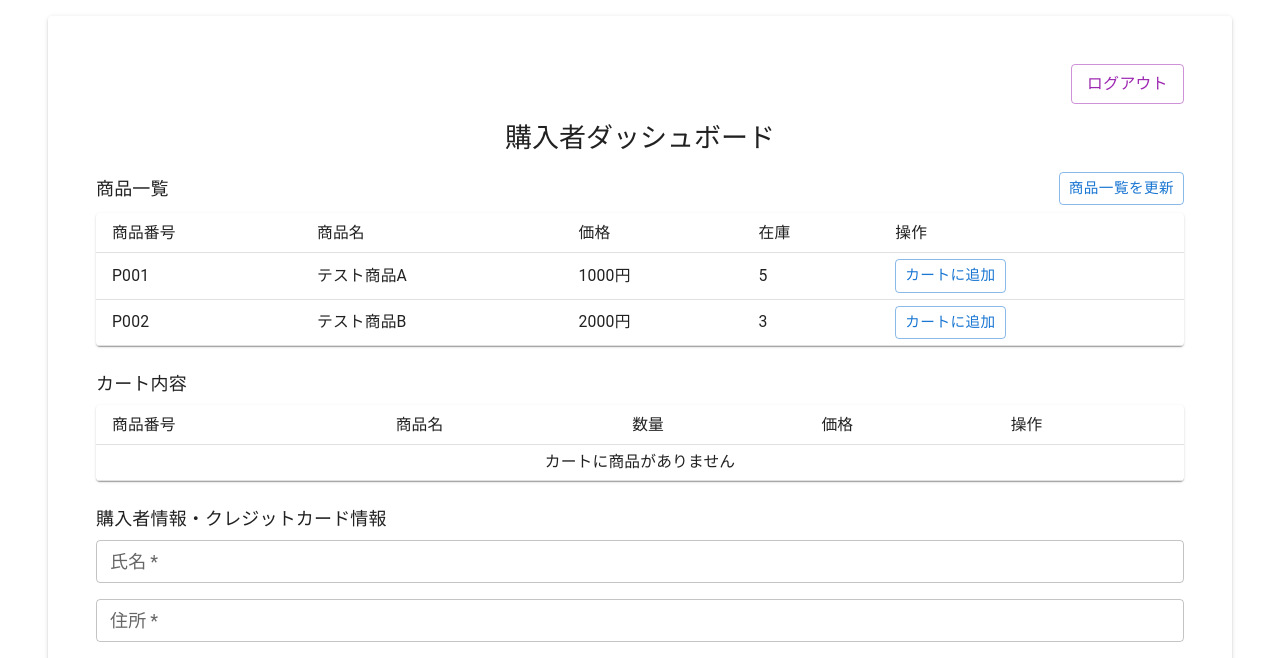
Test case: PurchaserDashboard › 必須項目未入力で注文確定するとエラー表示
Click the button "カートに追加" in the row of "P001" at (950, 276), box [895, 259, 1006, 293]
(page scrolled)
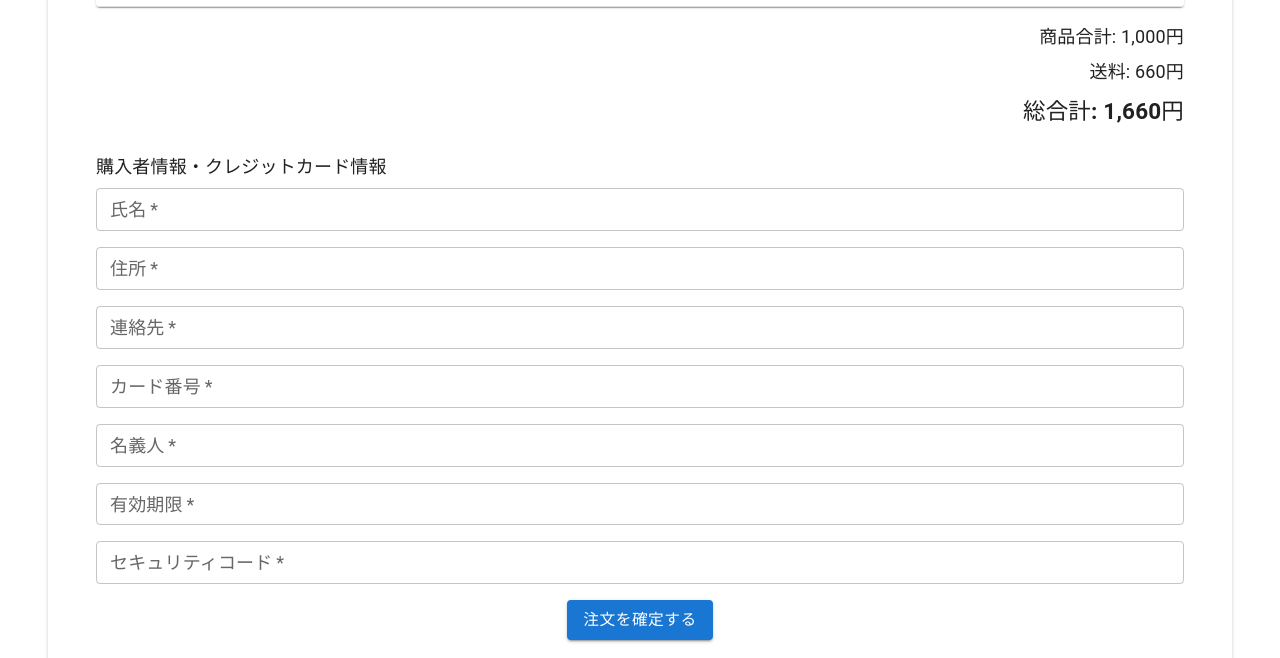
Expected: the text "カートに商品がありません" is gone
必須項目を空のままで注文確定
Click the button "注文を確定する" at (640, 620), box [567, 600, 713, 640]
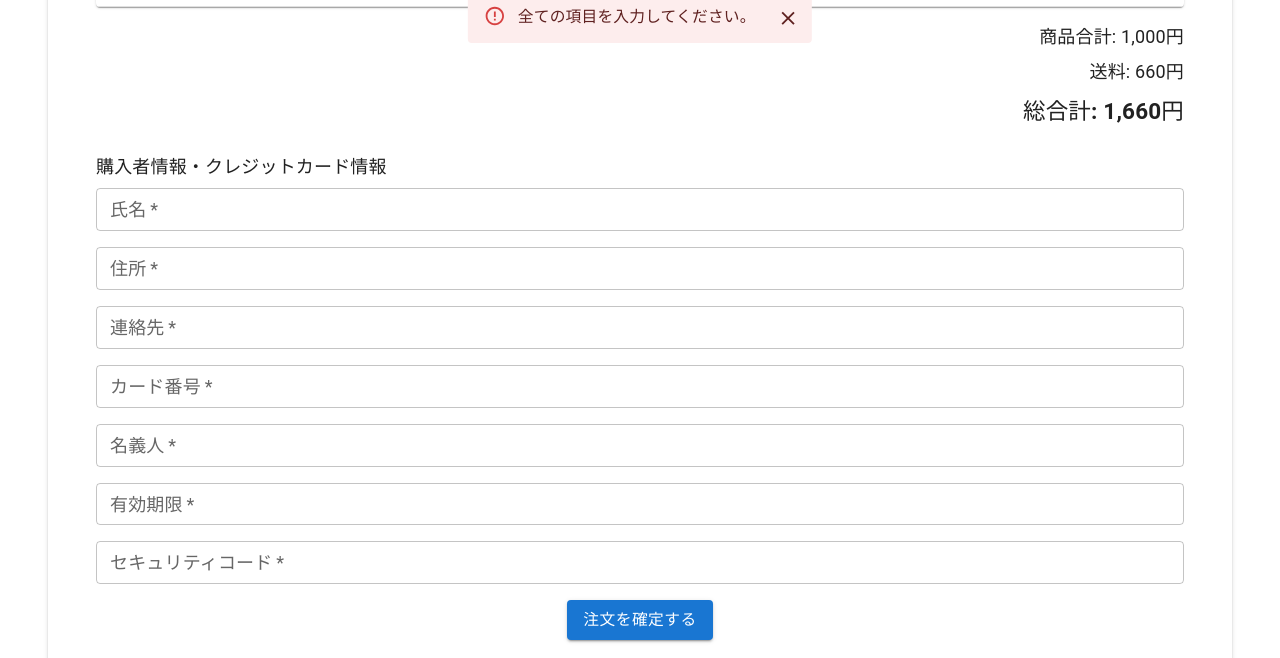
Expected: the text "全ての項目を入力してください。" is shown, [518, 7, 756, 26]
